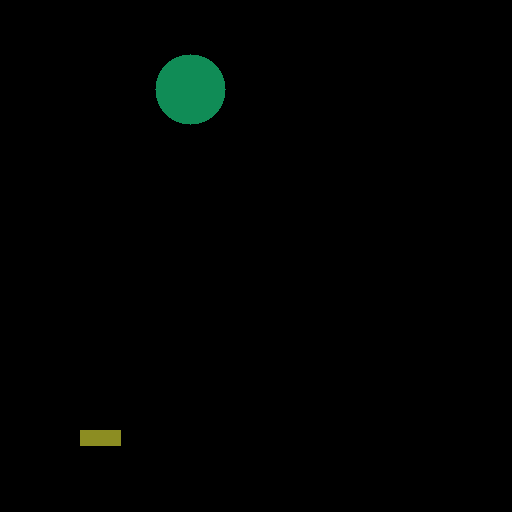circle: (152, 51, 229, 127)
side_rect: (76, 426, 124, 449)
